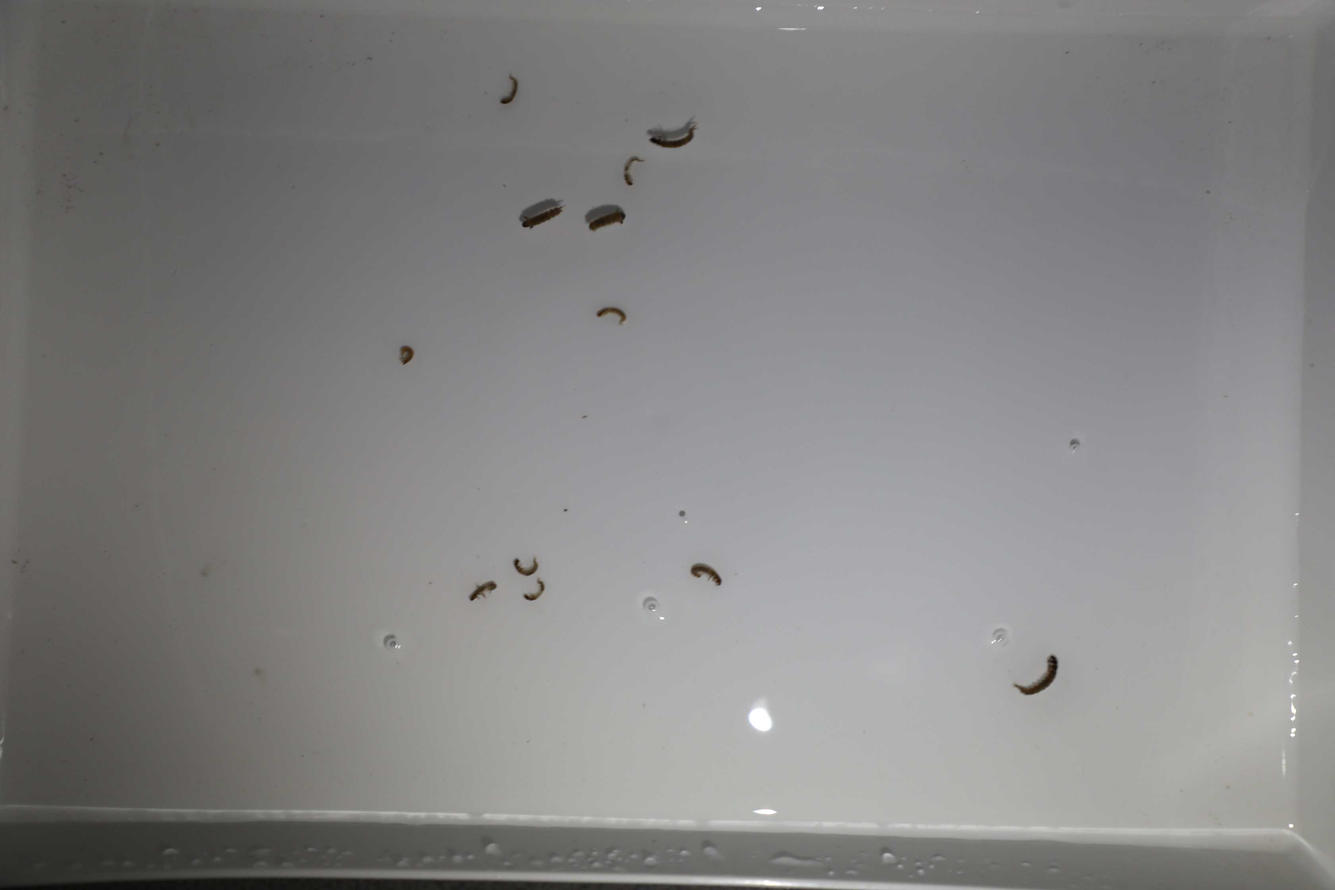Cadisfly: (1014, 654, 1060, 697), (646, 114, 698, 152), (518, 196, 566, 233), (580, 201, 626, 239), (492, 71, 525, 106), (594, 297, 627, 329), (684, 563, 723, 589), (469, 576, 497, 609), (523, 575, 545, 609), (510, 555, 542, 576), (621, 154, 639, 190), (395, 343, 414, 367)
